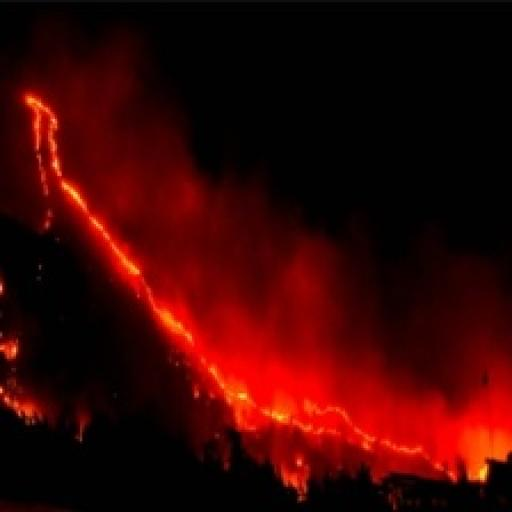fire and smoke: (28, 39, 509, 486)
